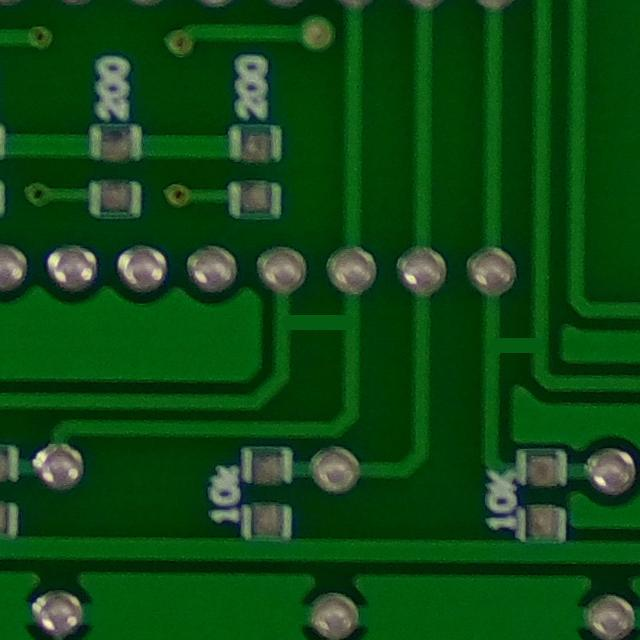short: (262, 290, 379, 351)
